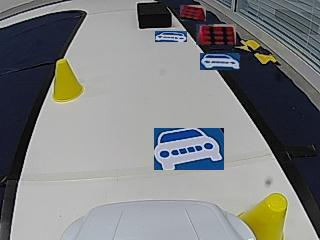block: (137, 2, 172, 28)
cone: (256, 193, 288, 239), (52, 59, 84, 102)
